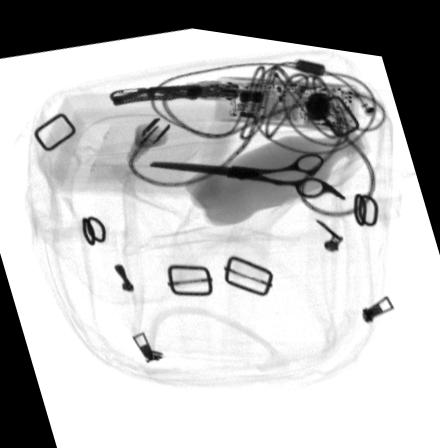Knife: (106, 79, 249, 103)
Scissors: (145, 142, 346, 190)
